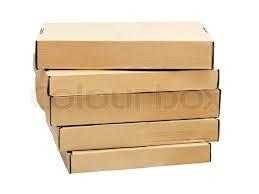Cardboard: (23, 20, 243, 174)
